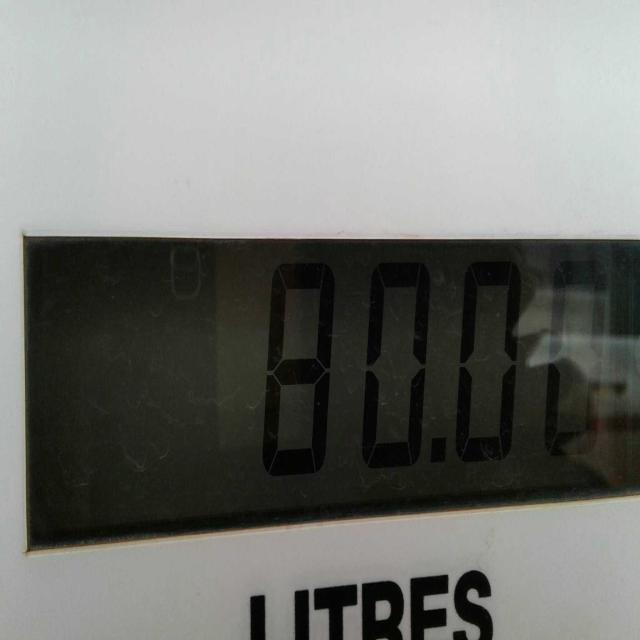.: (422, 424, 453, 486)
0: (356, 257, 431, 501), (452, 258, 534, 471), (548, 243, 618, 483)
8: (253, 242, 344, 494)
